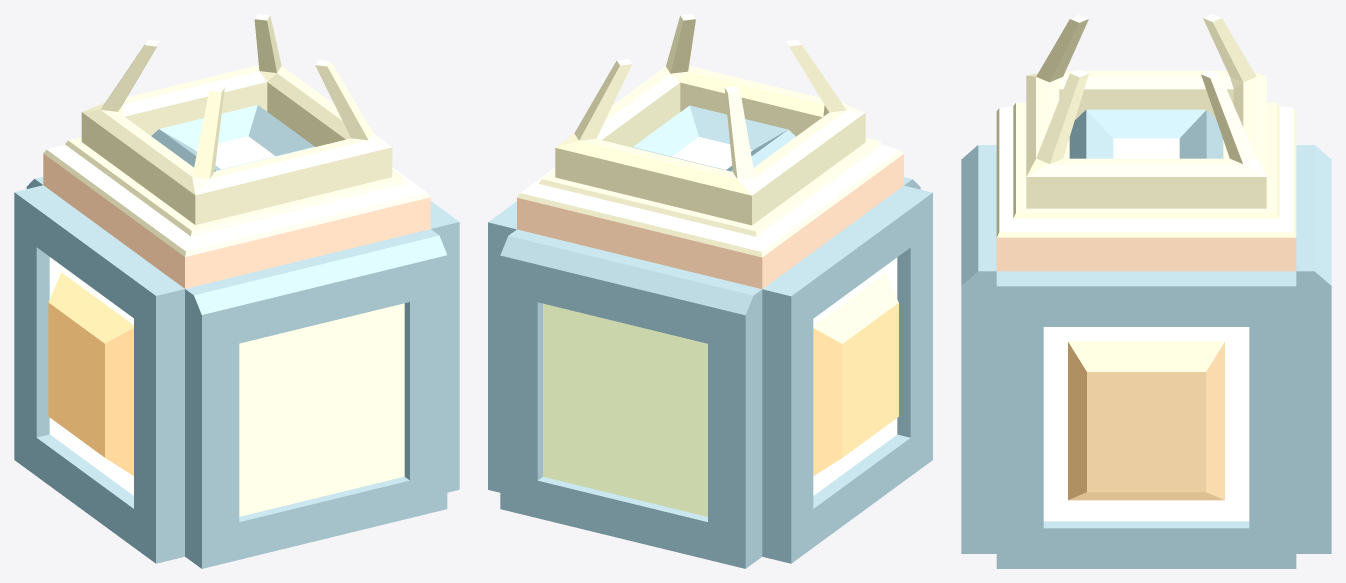
The model's file is MagneticBlock.fbx.
3 views of the same model, side by side, from view 1: azimuth 30°, elevation 25°; view 2: azimuth 150°, elevation 25°; view 3: azimuth 270°, elevation 25° (orthographic). The views are drawn at different scales.
Parts seen in each view (by area): view 1: MagneticBlock; view 2: MagneticBlock; view 3: MagneticBlock.
Boxes of the visible parts, x1,y1,x2,y2 form: MagneticBlock: [14, 14, 459, 568]; MagneticBlock: [488, 14, 932, 568]; MagneticBlock: [961, 14, 1331, 568].
Size of the model in its own units: 234 by 294 by 221.
